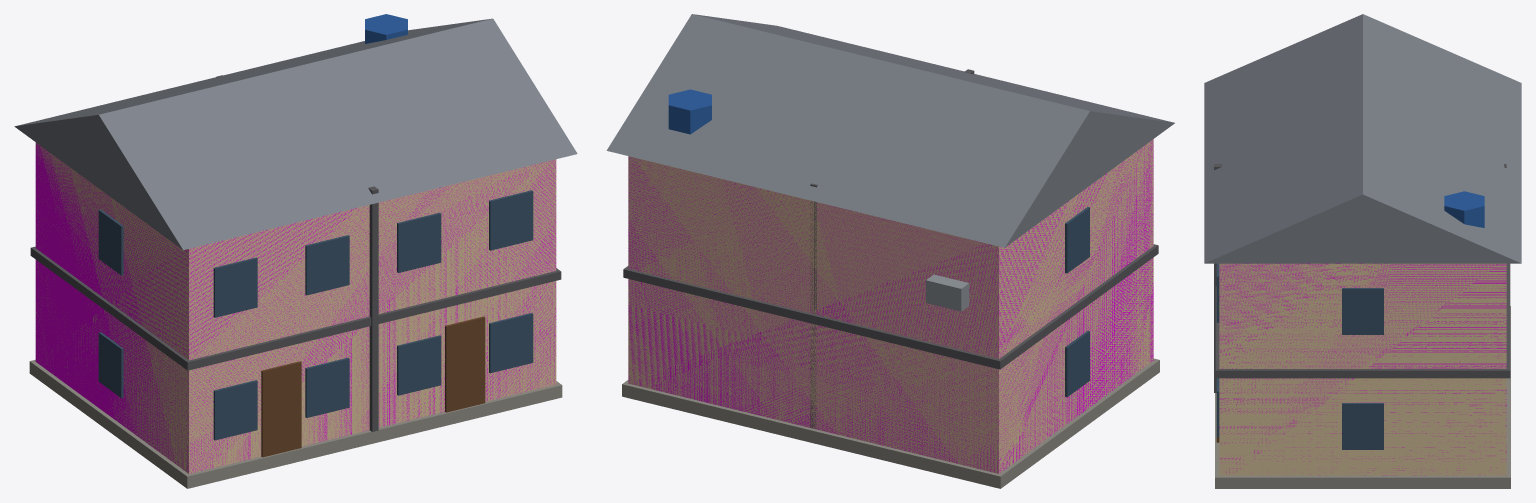
The model's file is Rowhouse_2S_01.glb.
The picture shows the model from 3 angles, left to right: view 1: azimuth 30°, elevation 25°; view 2: azimuth 150°, elevation 25°; view 3: azimuth 270°, elevation 25°; orthographic projection. The views are drawn at different scales.
Visible parts, largest first — view 1: Rowhouse_2S_01, Rowhouse_2S_01_COL; view 2: Rowhouse_2S_01, Rowhouse_2S_01_COL; view 3: Rowhouse_2S_01, Rowhouse_2S_01_COL.
Part boxes in pixels (x1,y1,x2,y2): Rowhouse_2S_01: (14, 14, 577, 488); Rowhouse_2S_01_COL: (35, 142, 556, 473); Rowhouse_2S_01: (606, 14, 1174, 488); Rowhouse_2S_01_COL: (628, 140, 1153, 473); Rowhouse_2S_01: (1204, 14, 1521, 488); Rowhouse_2S_01_COL: (1219, 263, 1506, 475).
Size of the model in its own units: 10.1 by 7.8 by 7.5.
